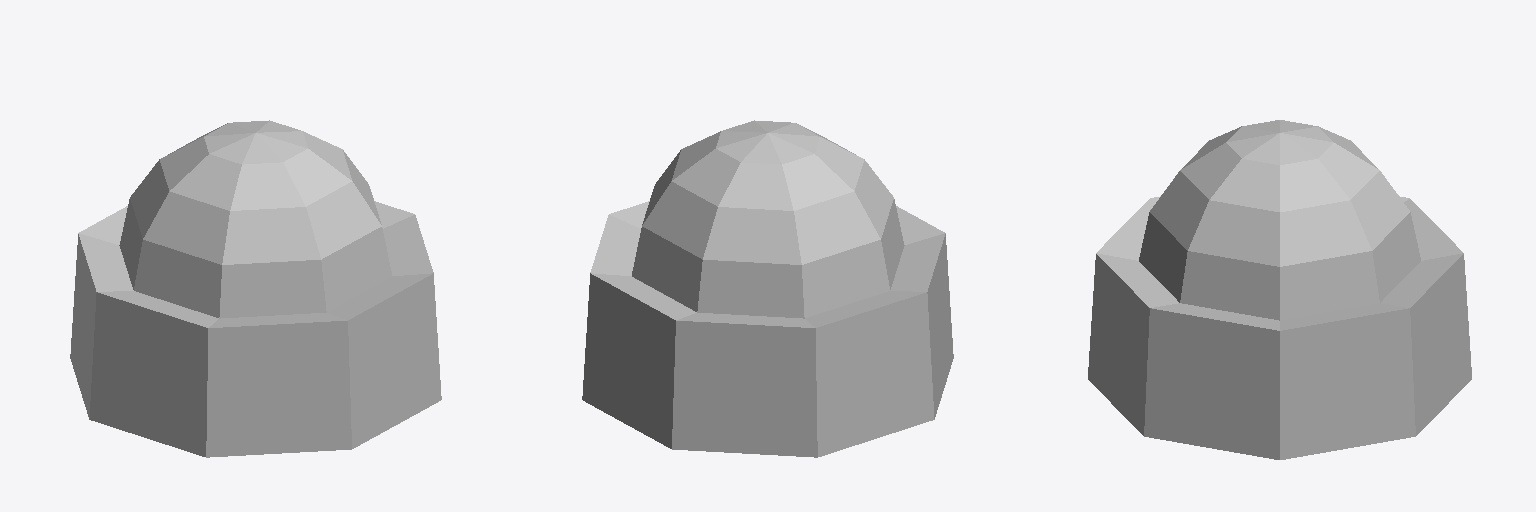
The model's file is BG_TOIT_01.obj.
The picture shows the model from 3 angles: view 1: azimuth 30°, elevation 25°; view 2: azimuth 150°, elevation 25°; view 3: azimuth 270°, elevation 25°; orthographic projection.
Visible parts, largest first — view 1: pSphere1; view 2: pSphere1; view 3: pSphere1.
Boxes of the visible parts, <box> form: pSphere1: <box>70,120,441,457</box>; pSphere1: <box>582,120,953,457</box>; pSphere1: <box>1088,120,1471,459</box>.
Bounding box in the file's own units: 190 × 134 × 190.